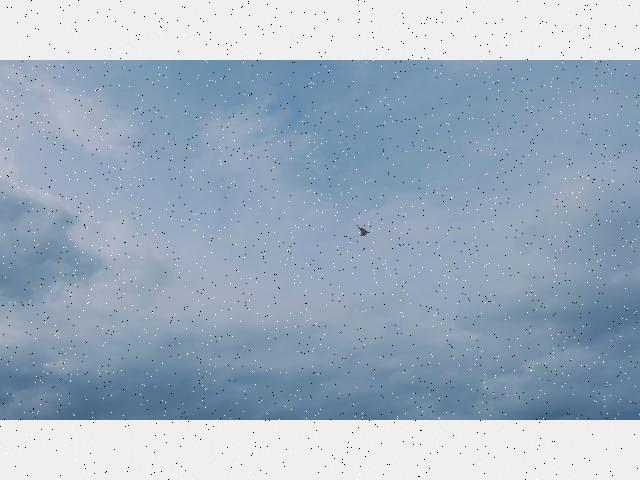Anti-Drone: (357, 224, 371, 239)
